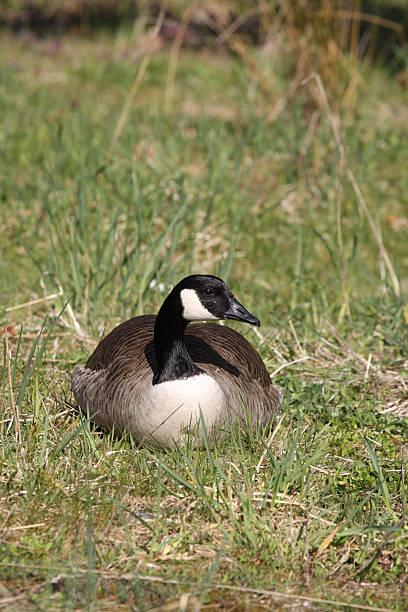Canadian-Goose: (75, 273, 281, 459)
